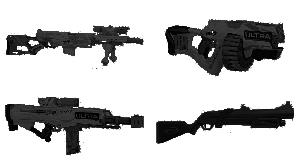sniper: (6, 99, 144, 152), (6, 24, 144, 65)
